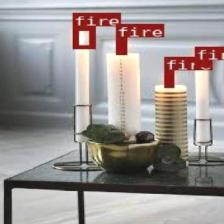fire: (73, 26, 93, 48), (193, 46, 208, 66), (116, 37, 126, 54), (163, 71, 173, 88)
